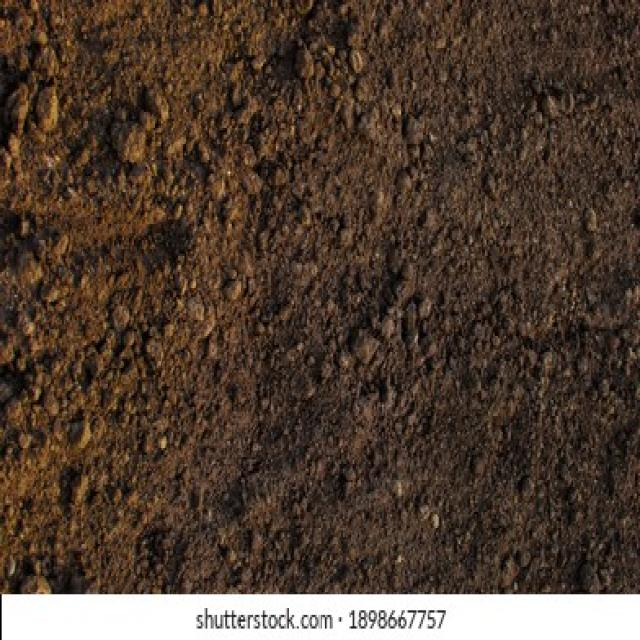Black Soil: (88, 55, 593, 494)
